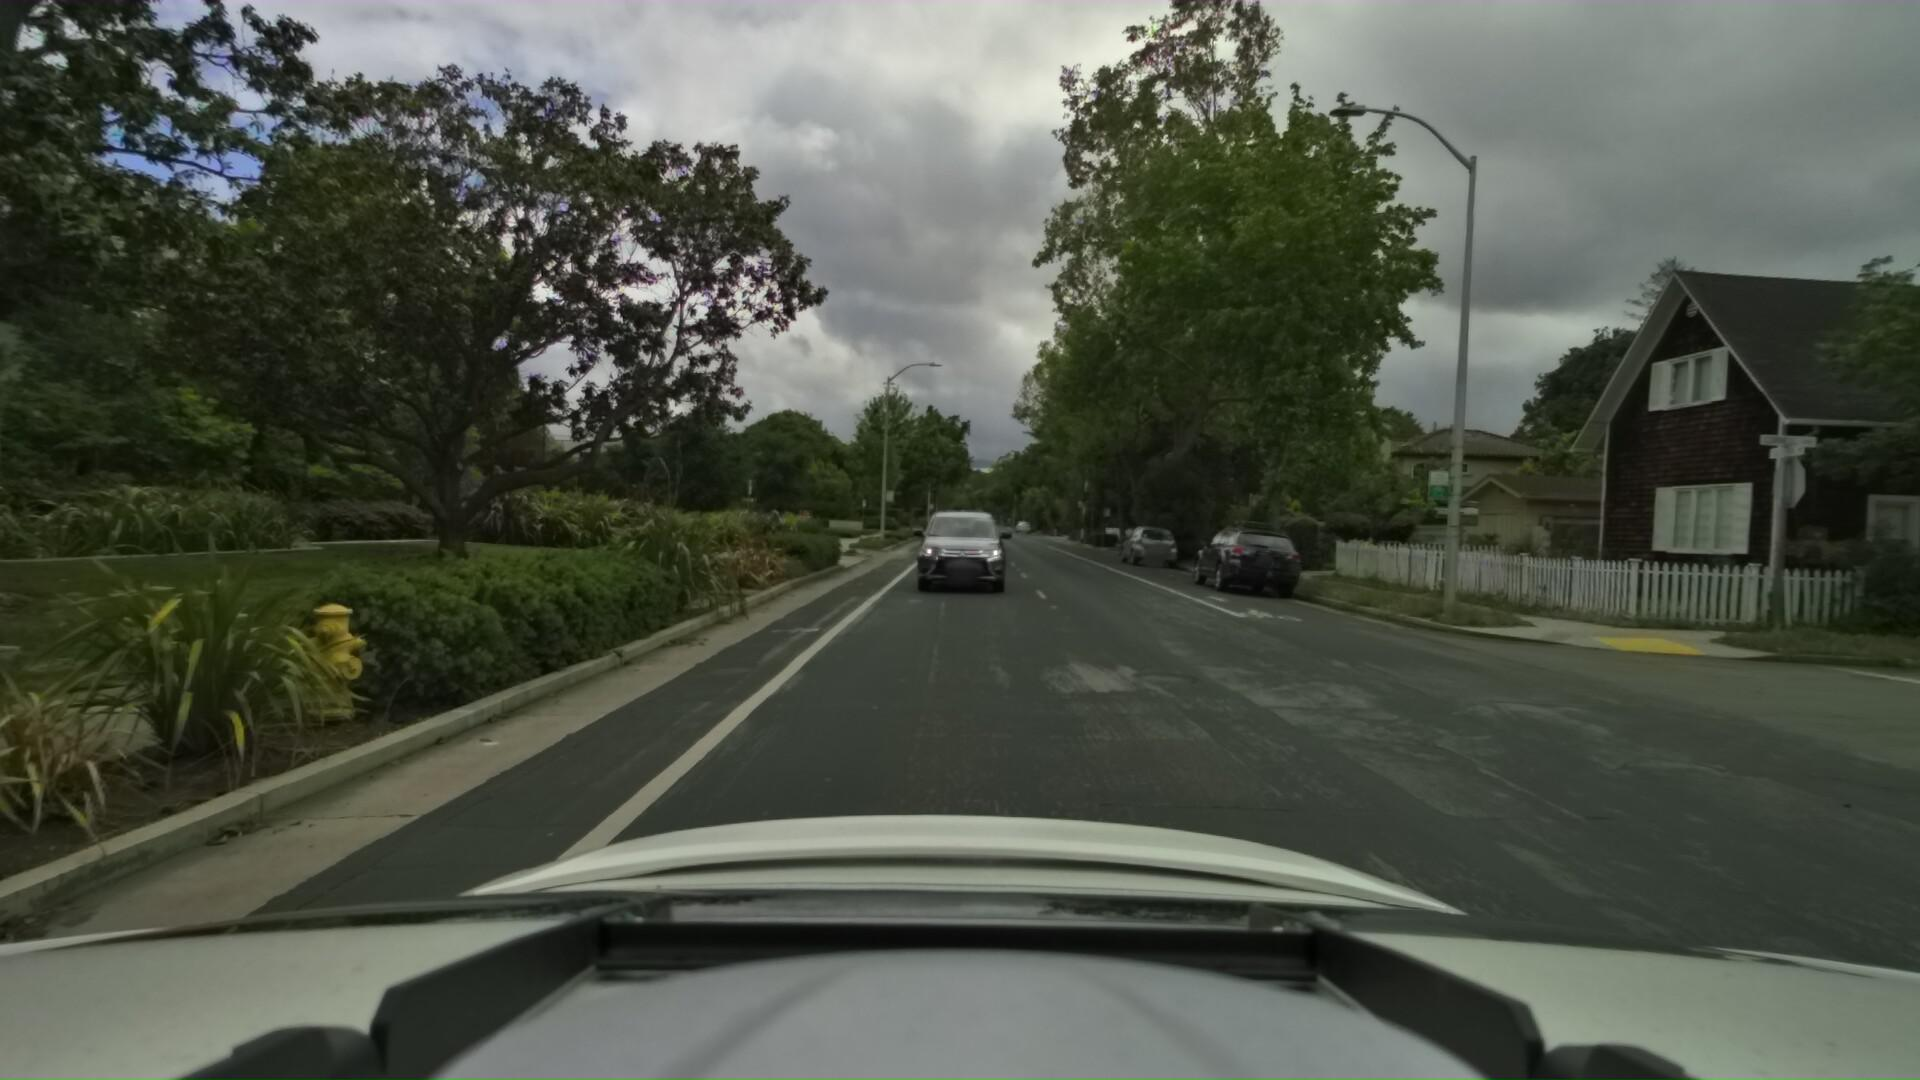car: (1183, 509, 1311, 597), (911, 497, 1010, 592), (1116, 518, 1180, 564), (945, 505, 988, 547)
